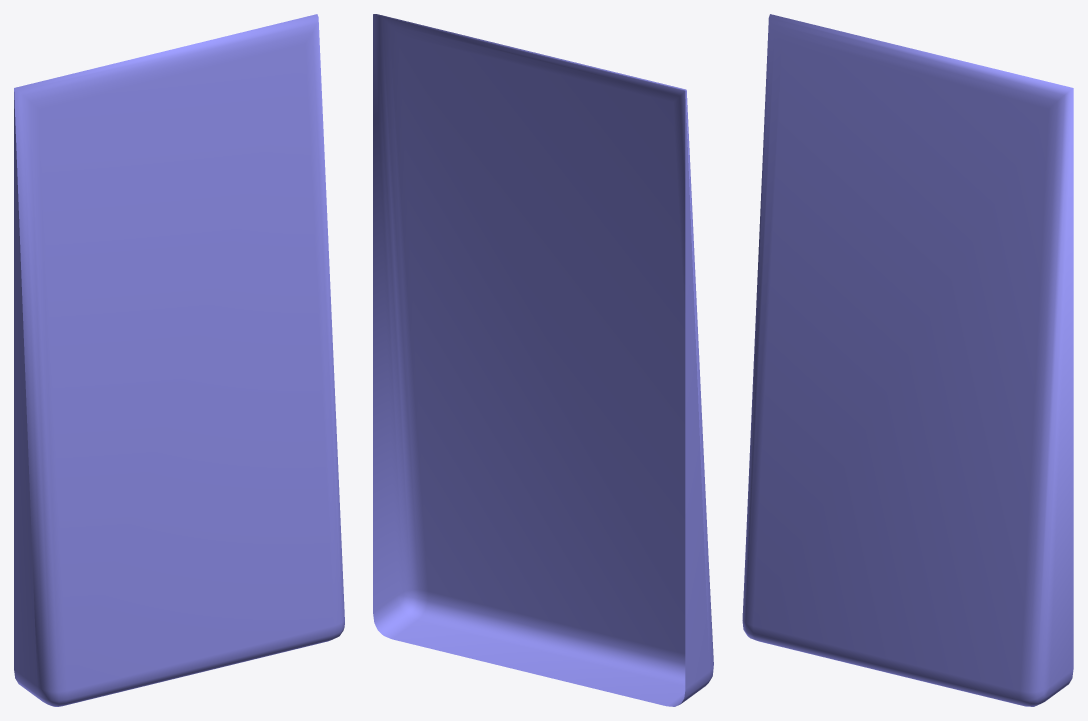
File: original-8.obj
3 views of the same model, side by side, from view 1: azimuth 30°, elevation 25°; view 2: azimuth 150°, elevation 25°; view 3: azimuth 330°, elevation 25° (orthographic). The views are drawn at different scales.
Parts seen in each view (by area): view 1: #ID43; view 2: #ID43; view 3: #ID43.
Part boxes in pixels (x1,y1,x2,y2): #ID43: [14, 14, 344, 706]; #ID43: [373, 14, 713, 706]; #ID43: [742, 14, 1073, 706].
Bounding box in the file's own units: 0.389 × 0.7383 × 0.078.
